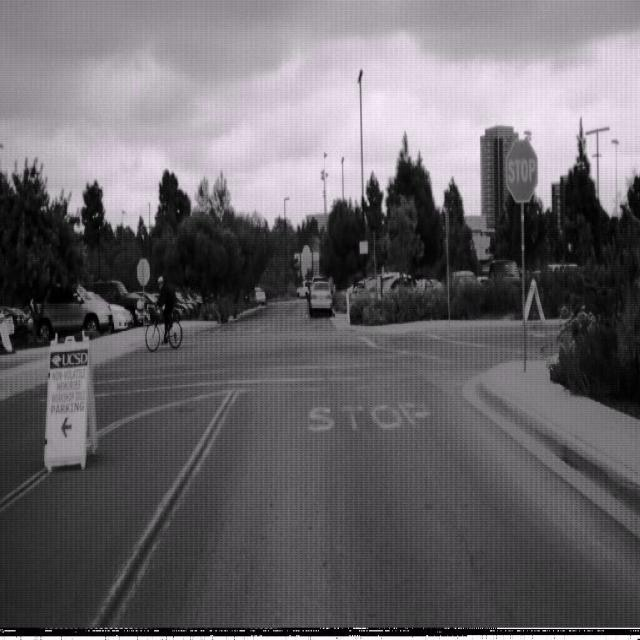stop_sign: (505, 138, 539, 204)
